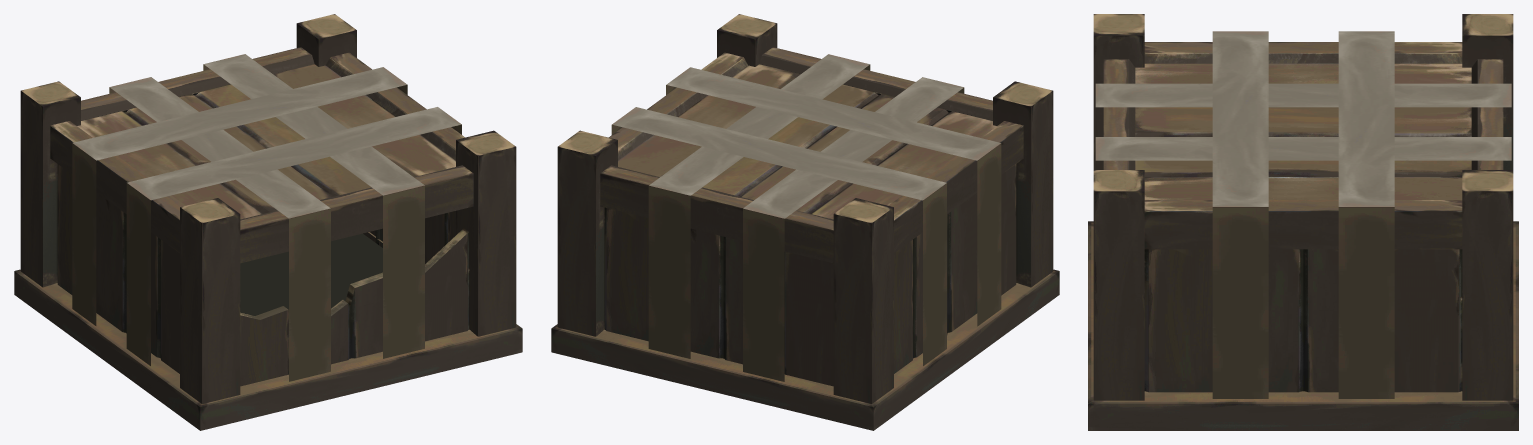
Rendered from S_survive_wood.fbx.
3 views of the same model, side by side, from view 1: azimuth 30°, elevation 25°; view 2: azimuth 150°, elevation 25°; view 3: azimuth 270°, elevation 25° (orthographic). The views are drawn at different scales.
Parts seen in each view (by area): view 1: S_survive_wood; view 2: S_survive_wood; view 3: S_survive_wood.
Part boxes in pixels (x1,y1,x2,y2): S_survive_wood: (14, 14, 522, 430); S_survive_wood: (551, 14, 1059, 430); S_survive_wood: (1088, 14, 1518, 430).
Bounding box in the file's own units: 1 × 0.616 × 1.
1 material, 1 textured.
